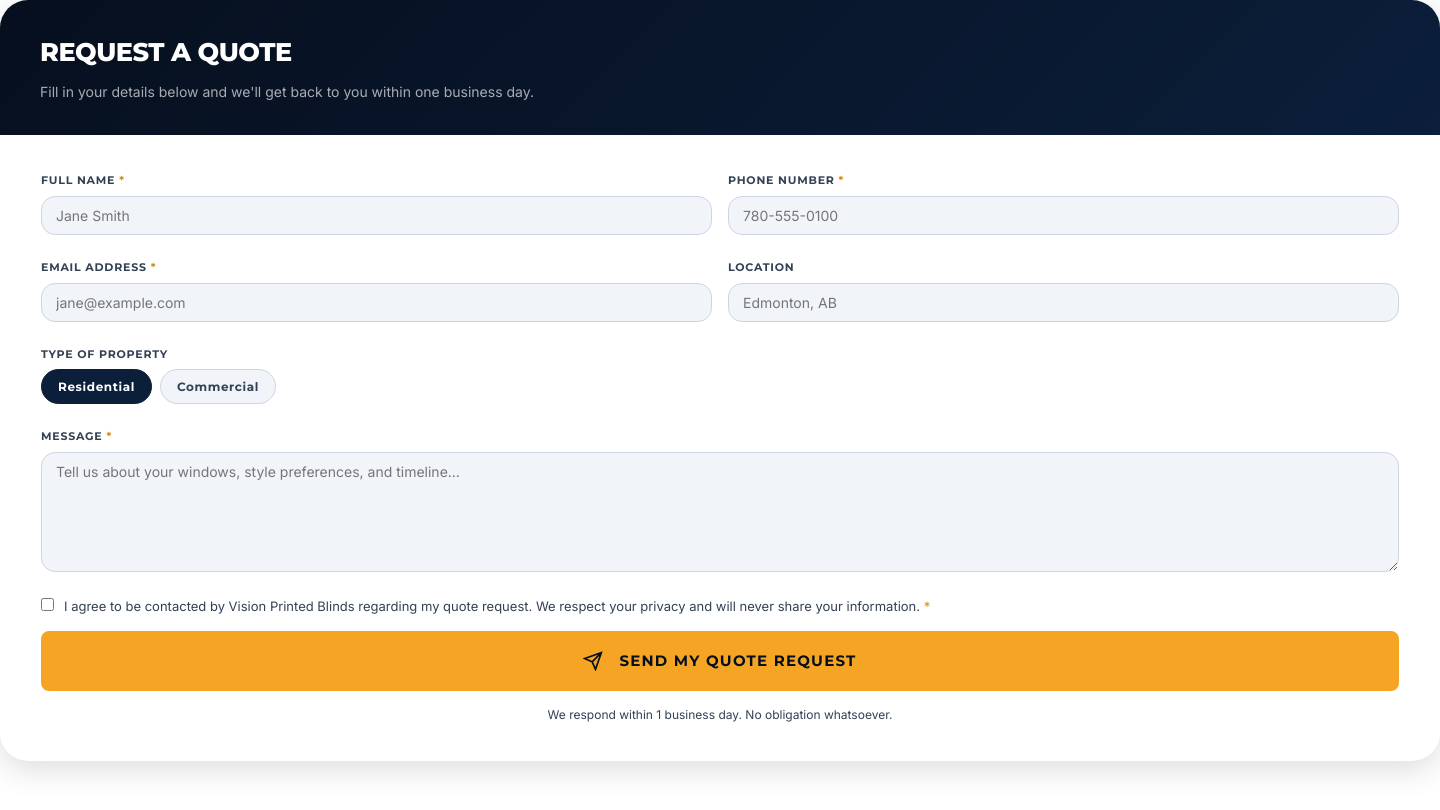
it: QuoteForm › clears a field error as soon as the user edits that field
Step 1. Click the button "Send My Quote Request" → x=720, y=661, box 41,631 -> 1399,691
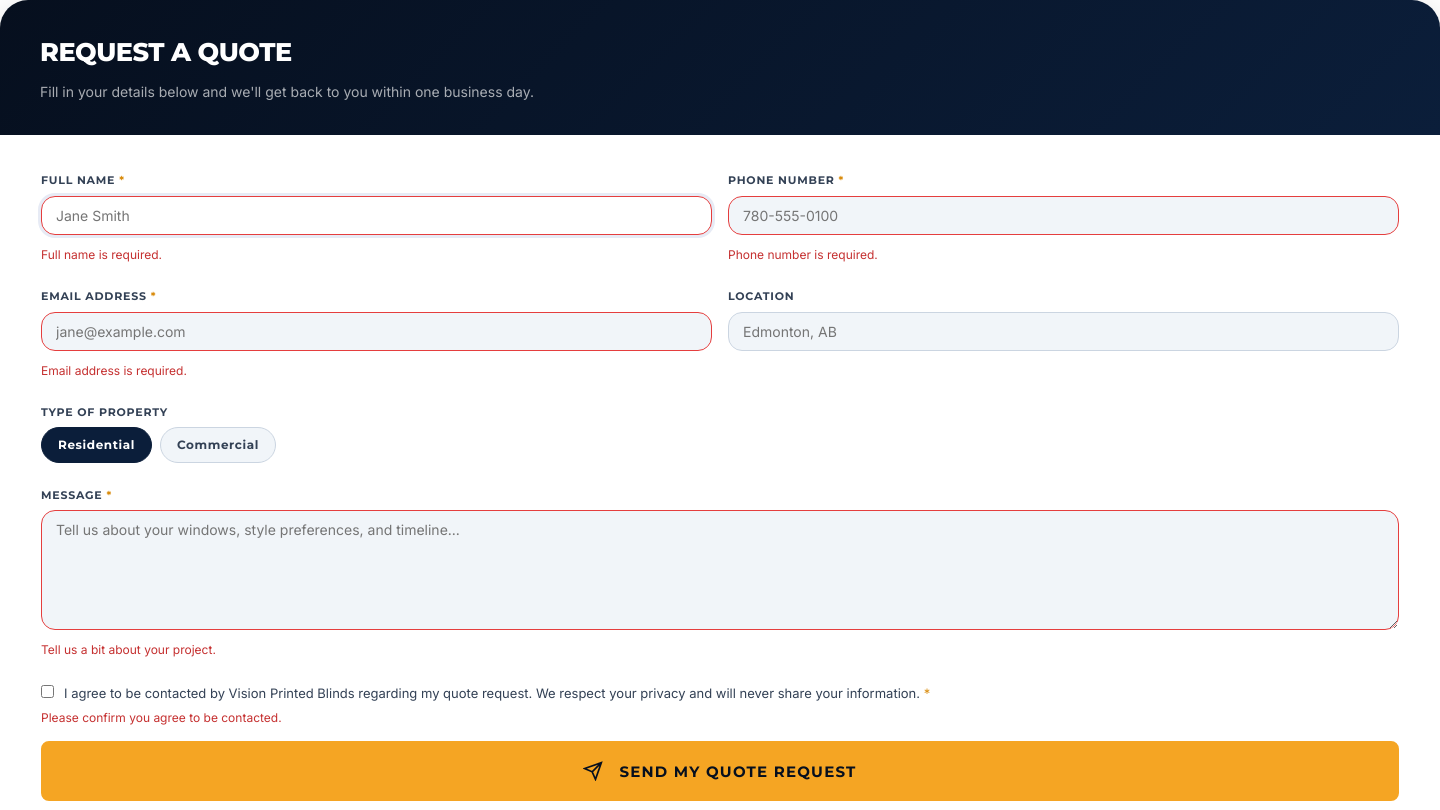
Expected: the text "Full name is required." is shown, 41,247 -> 162,262
Step 2. Type "J" into the field labelled "Full Name *" → x=376, y=215, box 41,196 -> 712,235
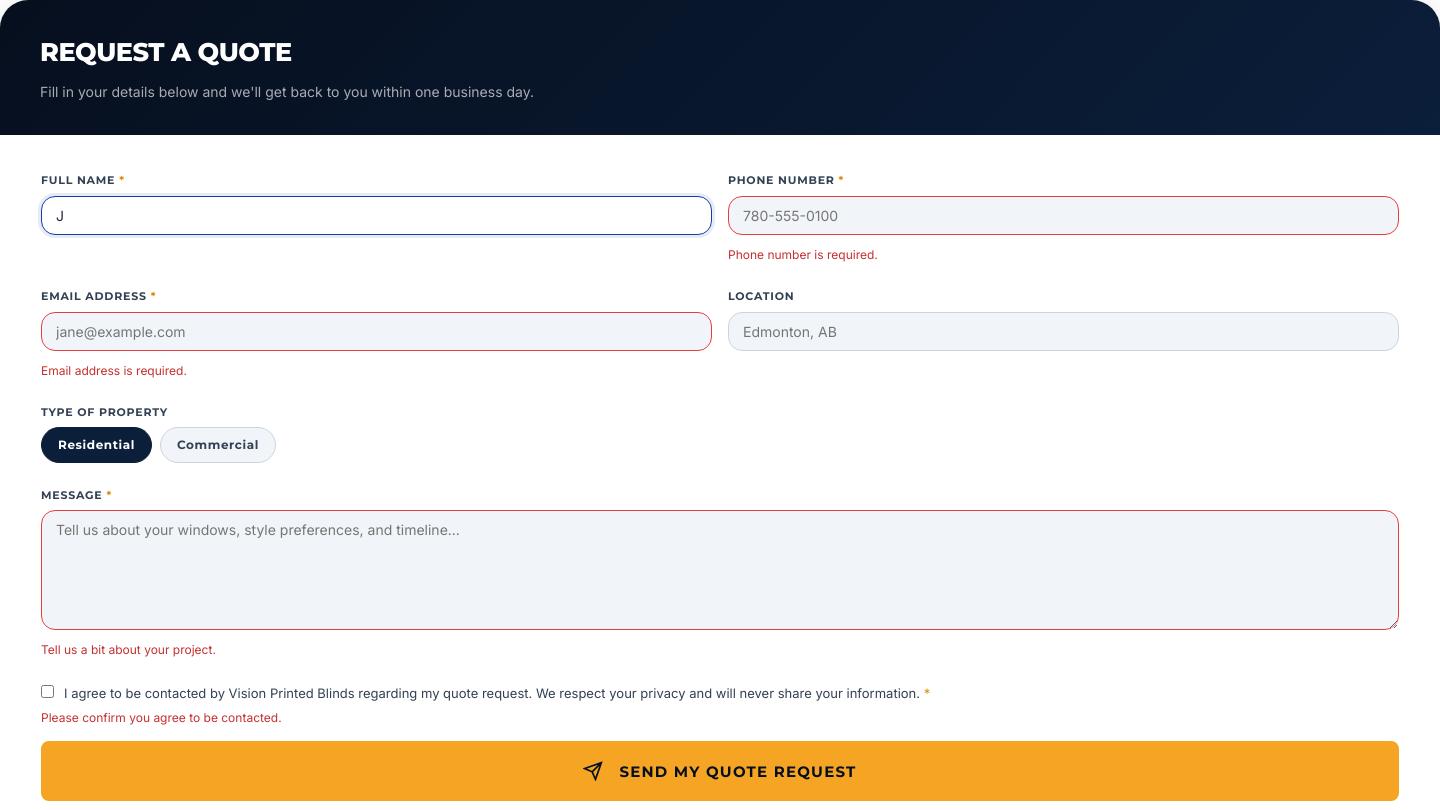
Expected: the text "Full name is required" is gone
